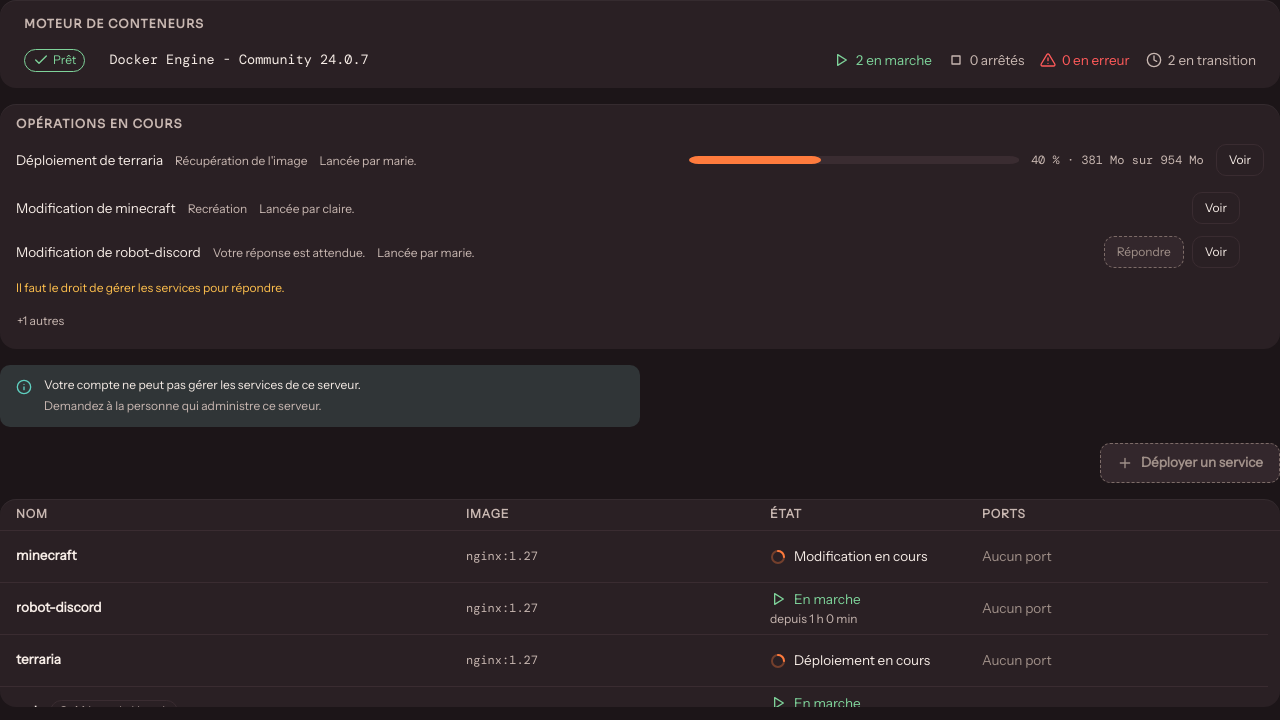
Test case: la bande « Opérations en cours » › C : lecture seule sans le droit, l'effacement d'un service se dit sans chemin ni progression
The image size is (1280, 720).
Click the button "+1 autres" at (41,321), box [16,305,65,337]
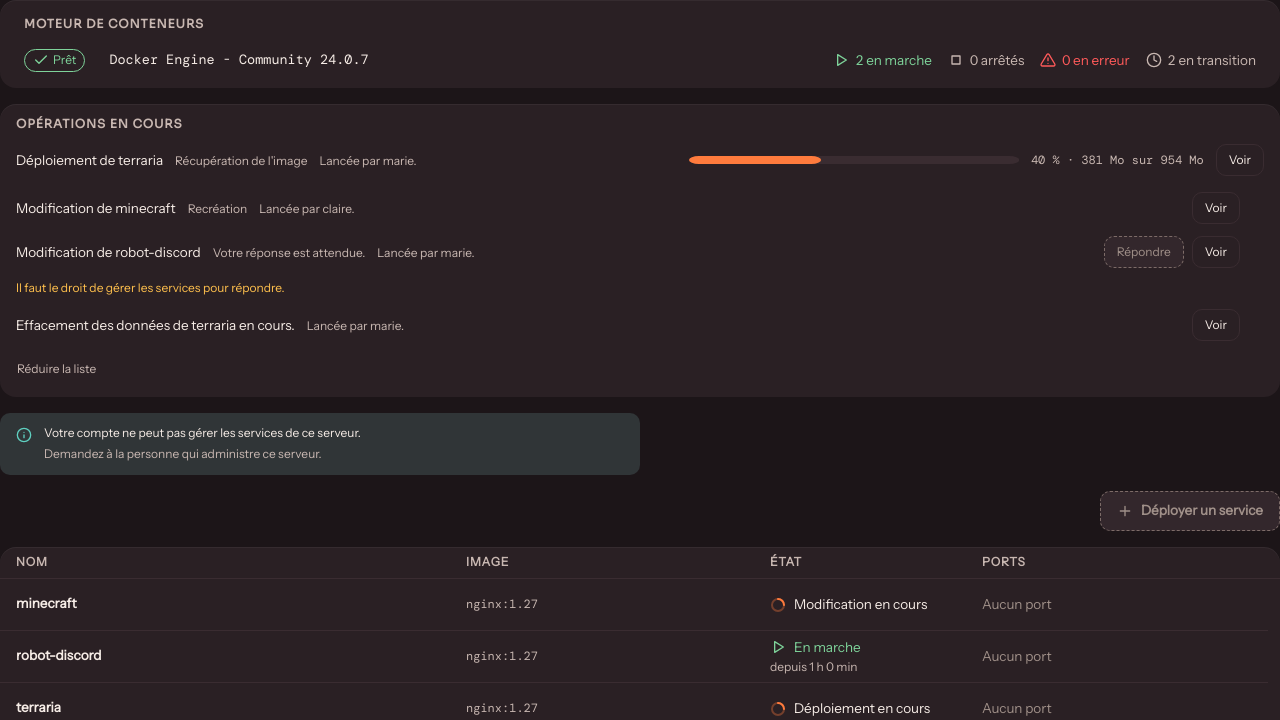
Check: the text "Effacement des données de terraria en cours." is shown, box [16,316,295,335]
